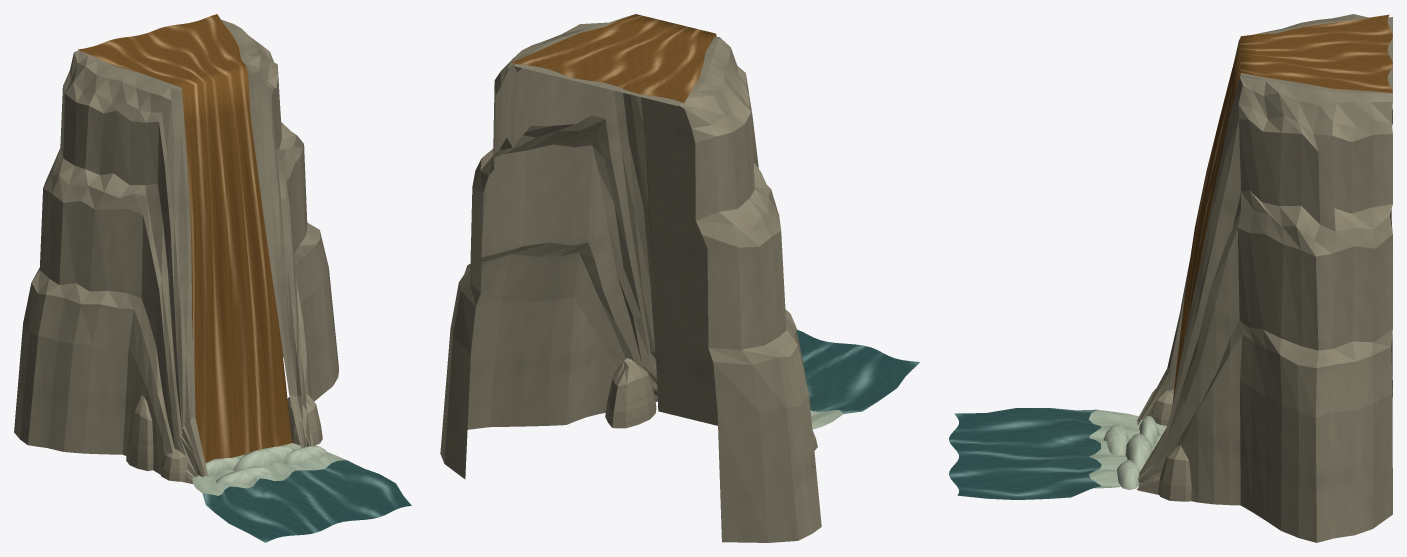
Rendered from fall-hukou-lod0.glb.
The picture shows the model from 3 angles, left to right: view 1: azimuth 30°, elevation 25°; view 2: azimuth 150°, elevation 25°; view 3: azimuth 270°, elevation 25°; orthographic projection. The views are drawn at different scales.
Bounding box in the file's own units: 0.9132 × 0.999 × 0.9916.
1 material, 1 textured.
